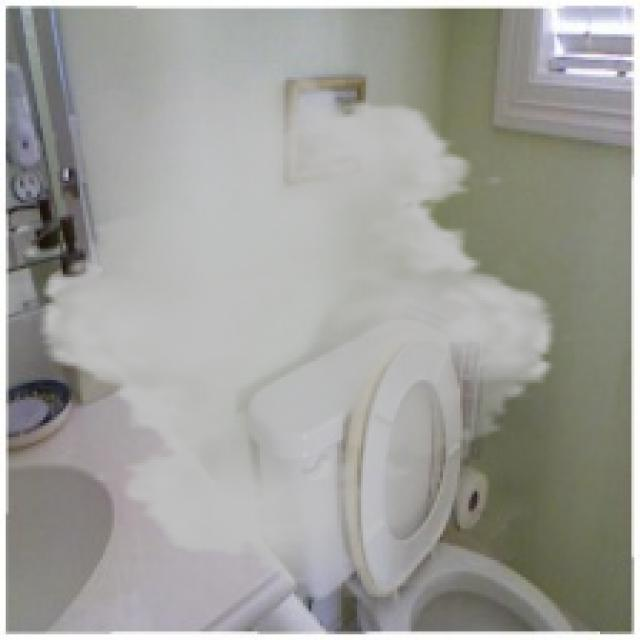smoke: (17, 60, 577, 597)
